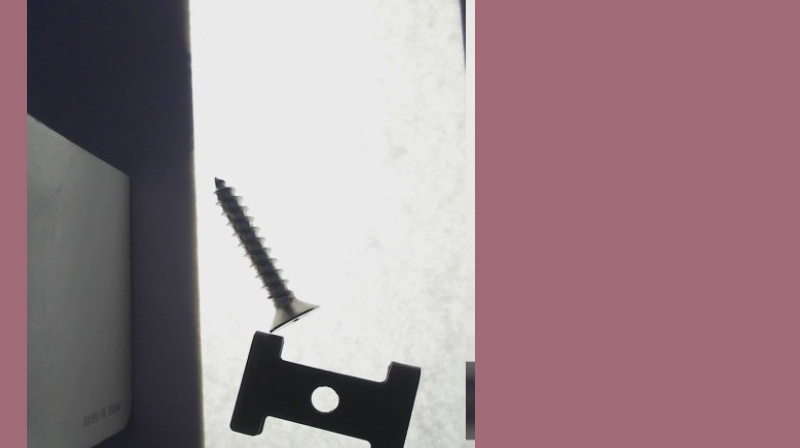O002: (231, 327, 424, 447)
S001: (212, 171, 320, 331)
